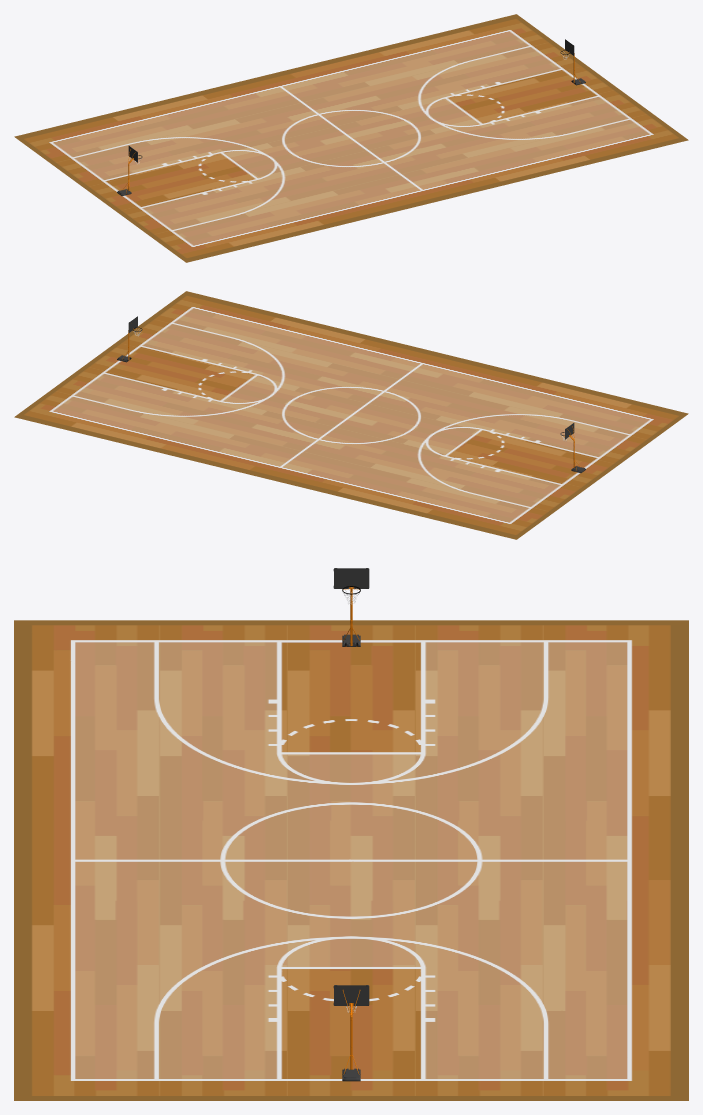
The model's file is level.glb.
3 views of the same model, one above another, from view 1: azimuth 30°, elevation 25°; view 2: azimuth 150°, elevation 25°; view 3: azimuth 270°, elevation 25° (orthographic). The views are drawn at different scales.
Parts seen in each view (by area): view 1: Plane; view 2: Plane; view 3: Plane, HoopBoard.
Boxes of the visible parts, box(x1,y1,x2,y2) form: Plane: box(14, 14, 688, 262); Plane: box(14, 291, 688, 539); Plane: box(14, 620, 688, 1100); HoopBoard: box(333, 568, 369, 1005).
Size of the model in its own units: 32 by 2.61 by 19.
5 materials, 1 textured.
